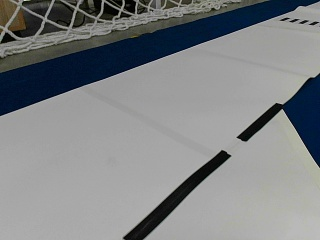crosswalk: (280, 16, 319, 26)
